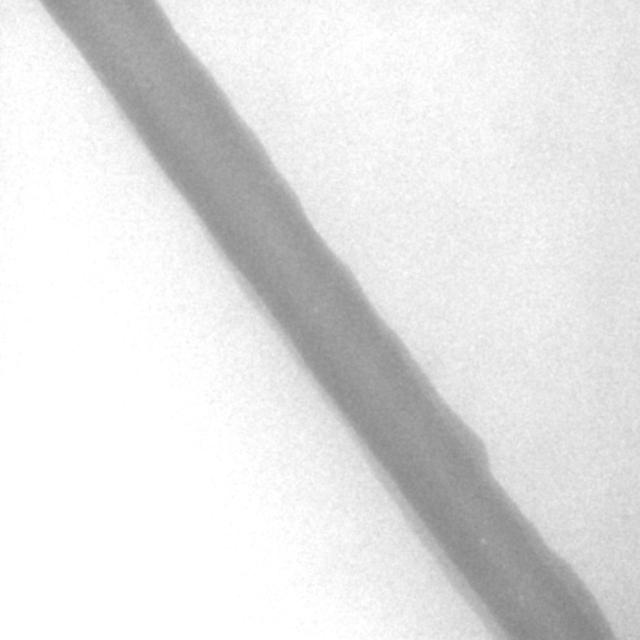air hole: (478, 533, 487, 548), (310, 303, 320, 315)
